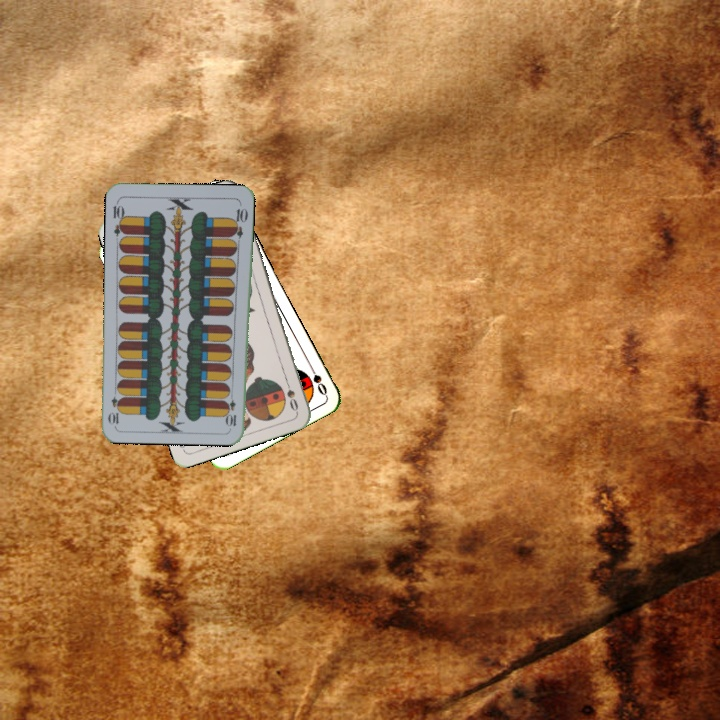E10: (109, 197, 128, 238), (225, 388, 239, 429)
SO: (305, 360, 330, 398), (281, 374, 301, 414)
